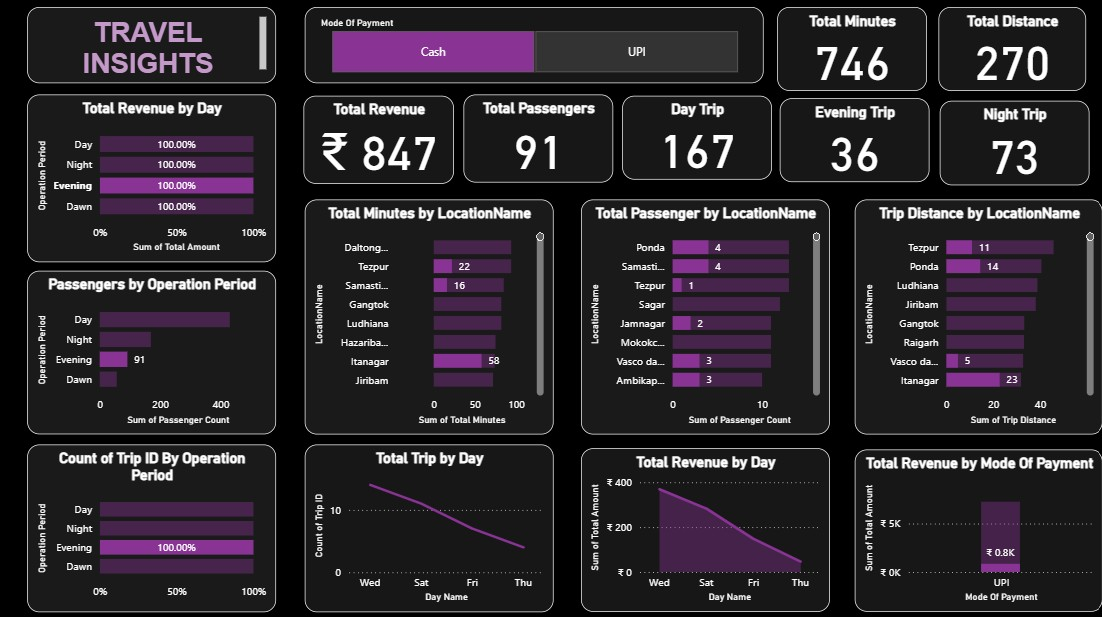

The dashboard page shown, as its layout file describes it:
{"tool":"powerbi","page":{"name":"TRAVEL INSIGHT DASHBOARD","canvas":[1280,720],"ordinal":0},"visuals":[{"type":"card","title":"Total Revenue","fields":{"Values":["Sum(TripData.Total Amount)"]},"box":[355.1,114.4,173.7,101.3],"z":0},{"type":"card","title":"Total Passengers","fields":{"Values":["Sum(TripData.Passenger Count)"]},"box":[539.7,112,172.5,101.3],"z":1000},{"type":"card","title":"Evening Trip","fields":{"Values":["All Measures.Evening Trip"]},"box":[905.2,116.8,172.5,96.5],"z":2000},{"type":"card","title":"Night Trip","fields":{"Values":["All Measures.Night Trip"]},"box":[1088.6,119.2,172.5,97.7],"z":3000},{"type":"card","title":"Day Trip","fields":{"Values":["All Measures.Day Trip"]},"box":[723,114.4,172.5,96.5],"z":4000},{"type":"card","title":"Total Minutes","fields":{"Values":["Sum(TripData.Total Minutes)"]},"box":[902.4,10.9,172.5,96.5],"z":5000},{"type":"card","title":"Total Distance","fields":{"Values":["Sum(TripData.Trip Distance)"]},"box":[1088.2,10.9,170.1,96.5],"z":6000},{"type":"barChart","title":"Total Minutes by LocationName","fields":{"Category":["Location.LocationName"],"Y":["Sum(TripData.Total Minutes)"]},"box":[356.9,233.2,287.1,271.2],"z":7000},{"type":"barChart","title":"Total Passenger by LocationName","fields":{"Category":["Location.LocationName"],"Y":["Sum(TripData.Passenger Count)"]},"box":[675.8,233.2,287.1,271.2],"z":8000},{"type":"barChart","title":"Trip Distance by LocationName","fields":{"Category":["Location.LocationName"],"Y":["Sum(TripData.Trip Distance)"]},"box":[991.8,233.2,287.1,271.2],"z":9000},{"type":"lineChart","title":"Total Trip by Day","fields":{"Category":["Date.Day Name"],"Y":["CountNonNull(TripData.Trip ID)"]},"box":[356.4,516.5,287.1,193.3],"z":10000},{"type":"areaChart","title":"Total Revenue by Day","fields":{"Category":["Date.Day Name"],"Y":["Sum(TripData.Total Amount)"]},"box":[675.2,520.8,287.1,189],"z":11000},{"type":"columnChart","title":"Total Revenue by Mode Of Payment","fields":{"Category":["TripData.Mode Of Payment"],"Y":["Sum(TripData.Total Amount)"]},"box":[991.2,522.3,287.1,187.6],"z":12000},{"type":"hundredPercentStackedBarChart","title":"Total Revenue by Day ","fields":{"Category":["TripData.Operation Period"],"Y":["Sum(TripData.Total Amount)"]},"box":[36.1,112.5,287.1,193.3],"z":13000},{"type":"barChart","title":"Passengers by Operation Period","fields":{"Category":["TripData.Operation Period"],"Y":["Sum(TripData.Passenger Count)"]},"box":[36.1,316,287.1,189],"z":14000},{"type":"hundredPercentStackedBarChart","title":"Count of Trip ID By Operation Period","fields":{"Y":["CountNonNull(TripData.Trip ID)"],"Category":["TripData.Operation Period"]},"box":[36.1,516.5,287.1,193.3],"z":15000},{"type":"slicer","fields":{"Values":["TripData.Mode Of Payment"]},"box":[356.4,11.5,529.5,88],"z":16000},{"type":"textbox","box":[36.1,11.5,287.1,88],"z":17000}]}

Visuals, with their boxes in screenshot pixels (x1, y1, x2, y2), scaled from the page's 1280x720 canvas onto the 1102x617 screenshot:
"Total Revenue" card: l=306, t=98, r=455, b=185
"Total Passengers" card: l=465, t=96, r=613, b=183
"Evening Trip" card: l=779, t=100, r=928, b=183
"Night Trip" card: l=937, t=102, r=1086, b=186
"Day Trip" card: l=622, t=98, r=771, b=181
"Total Minutes" card: l=777, t=9, r=925, b=92
"Total Distance" card: l=937, t=9, r=1083, b=92
"Total Minutes by LocationName" barChart: l=307, t=200, r=554, b=432
"Total Passenger by LocationName" barChart: l=582, t=200, r=829, b=432
"Trip Distance by LocationName" barChart: l=854, t=200, r=1101, b=432
"Total Trip by Day" lineChart: l=307, t=443, r=554, b=608
"Total Revenue by Day" areaChart: l=581, t=446, r=828, b=608
"Total Revenue by Mode Of Payment" columnChart: l=853, t=448, r=1101, b=608
"Total Revenue by Day " hundredPercentStackedBarChart: l=31, t=96, r=278, b=262
"Passengers by Operation Period" barChart: l=31, t=271, r=278, b=433
"Count of Trip ID By Operation Period" hundredPercentStackedBarChart: l=31, t=443, r=278, b=608
slicer - TripData.Mode Of Payment: l=307, t=10, r=763, b=85
textbox: l=31, t=10, r=278, b=85
